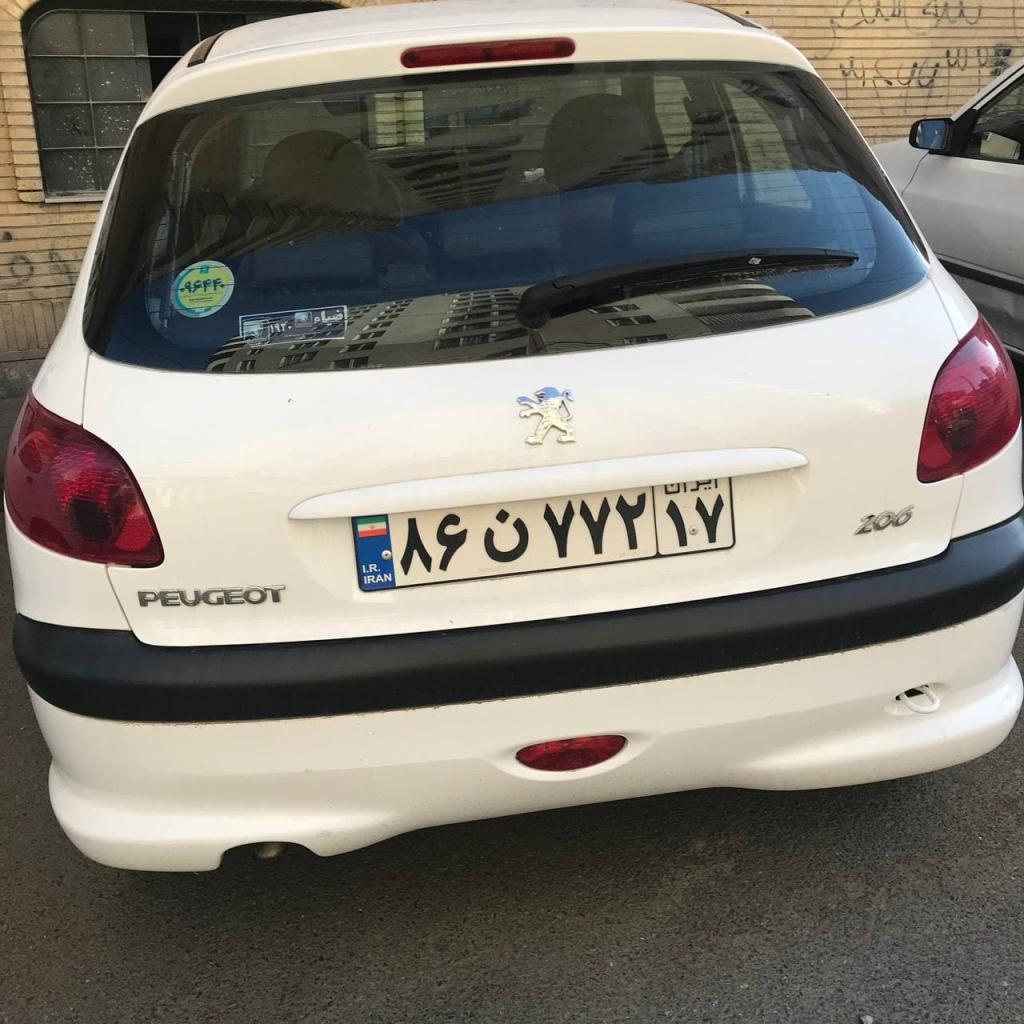Plates: (351, 478, 738, 592)
